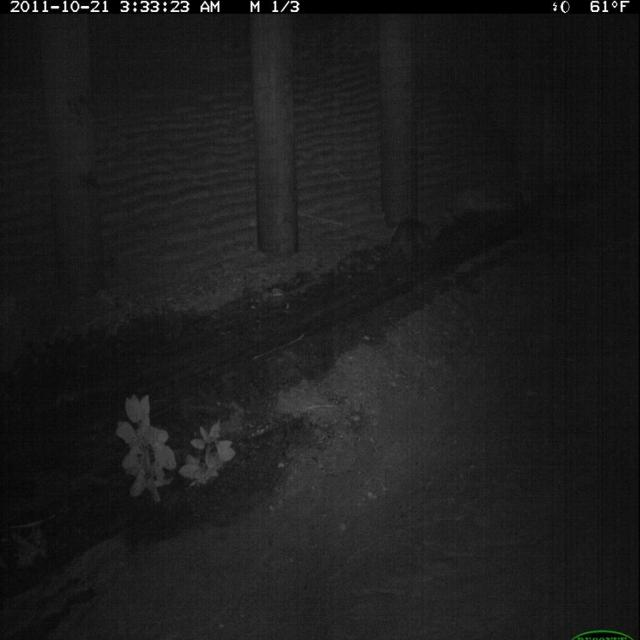raccoon: (383, 215, 436, 269)
